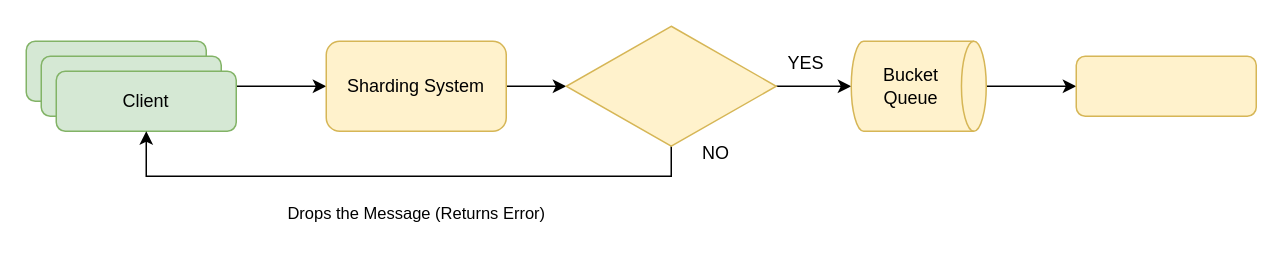
This 1283x263 diagram has some shape labels left out. Here are the shapes that lost their labels. From the top down, the box of each, then its label:
(565, 25, 776, 146): Bucket has Space
(1075, 55, 1256, 116): Consumer
